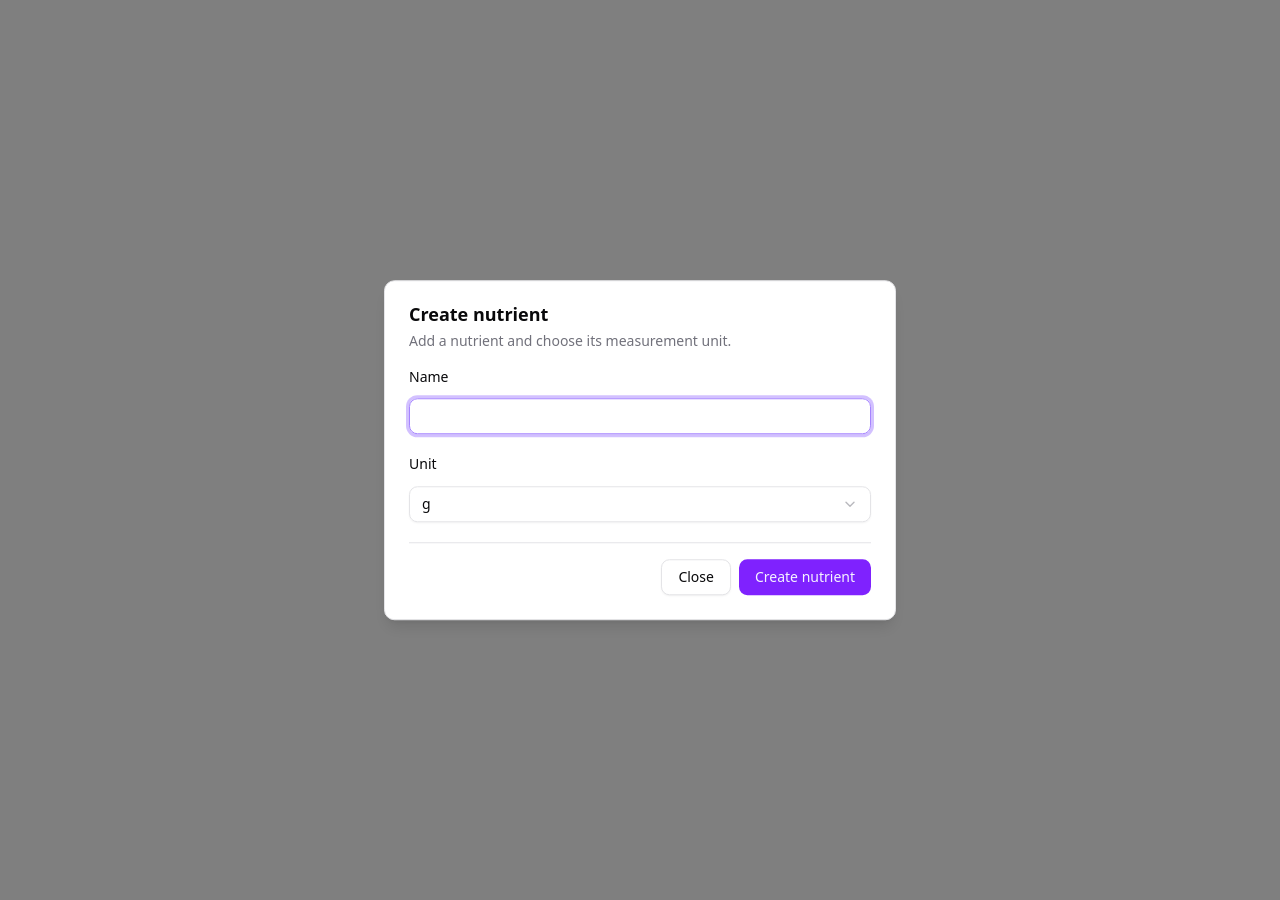
NutrientFormDialog › renders one alert for a non-field request error and permits retry
This screenshot has width=1280, height=900.
Type "Iron" into the field labelled "Name" at [640, 416], box [409, 398, 871, 434]
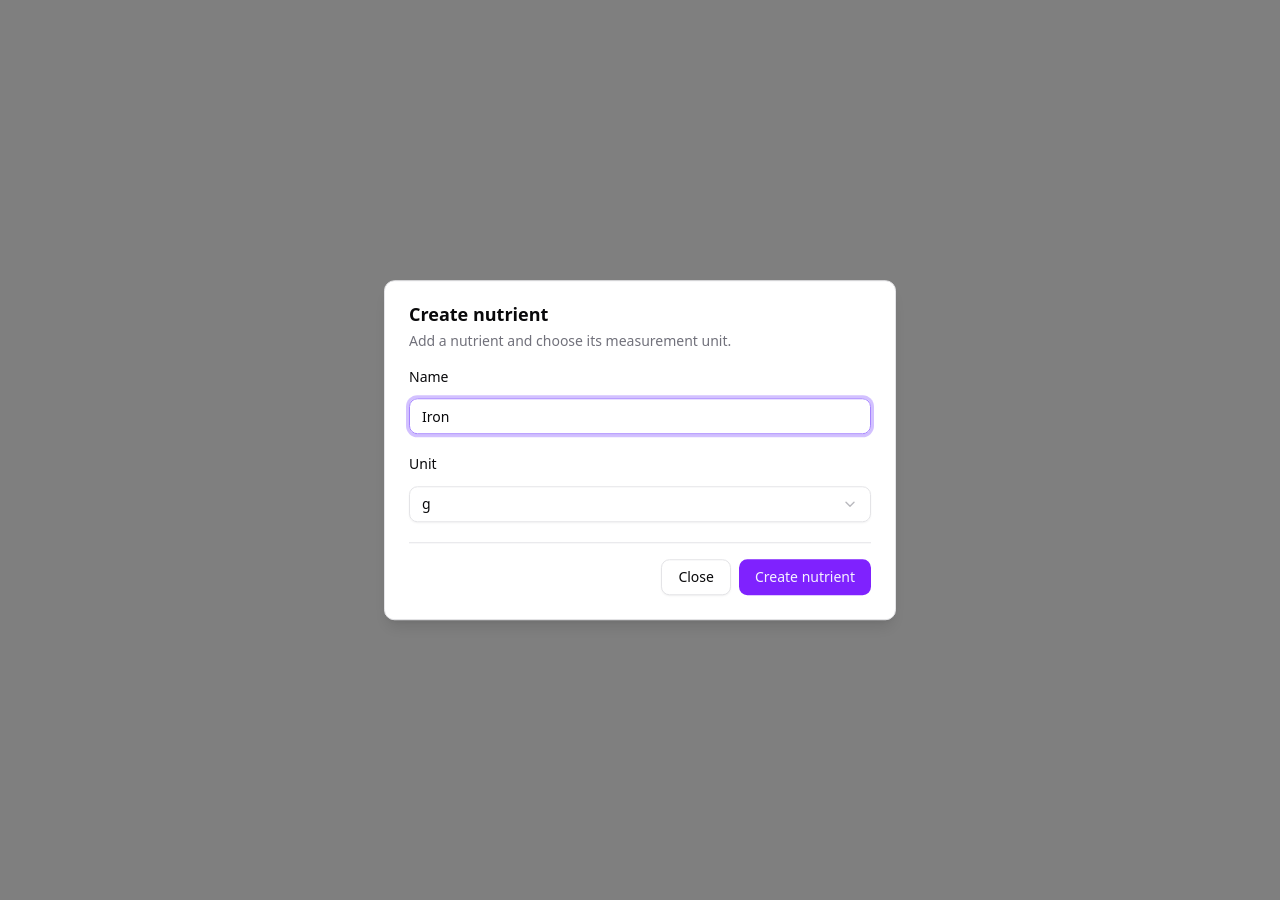
Click the button "Create nutrient" at [805, 577], box [739, 559, 871, 595]
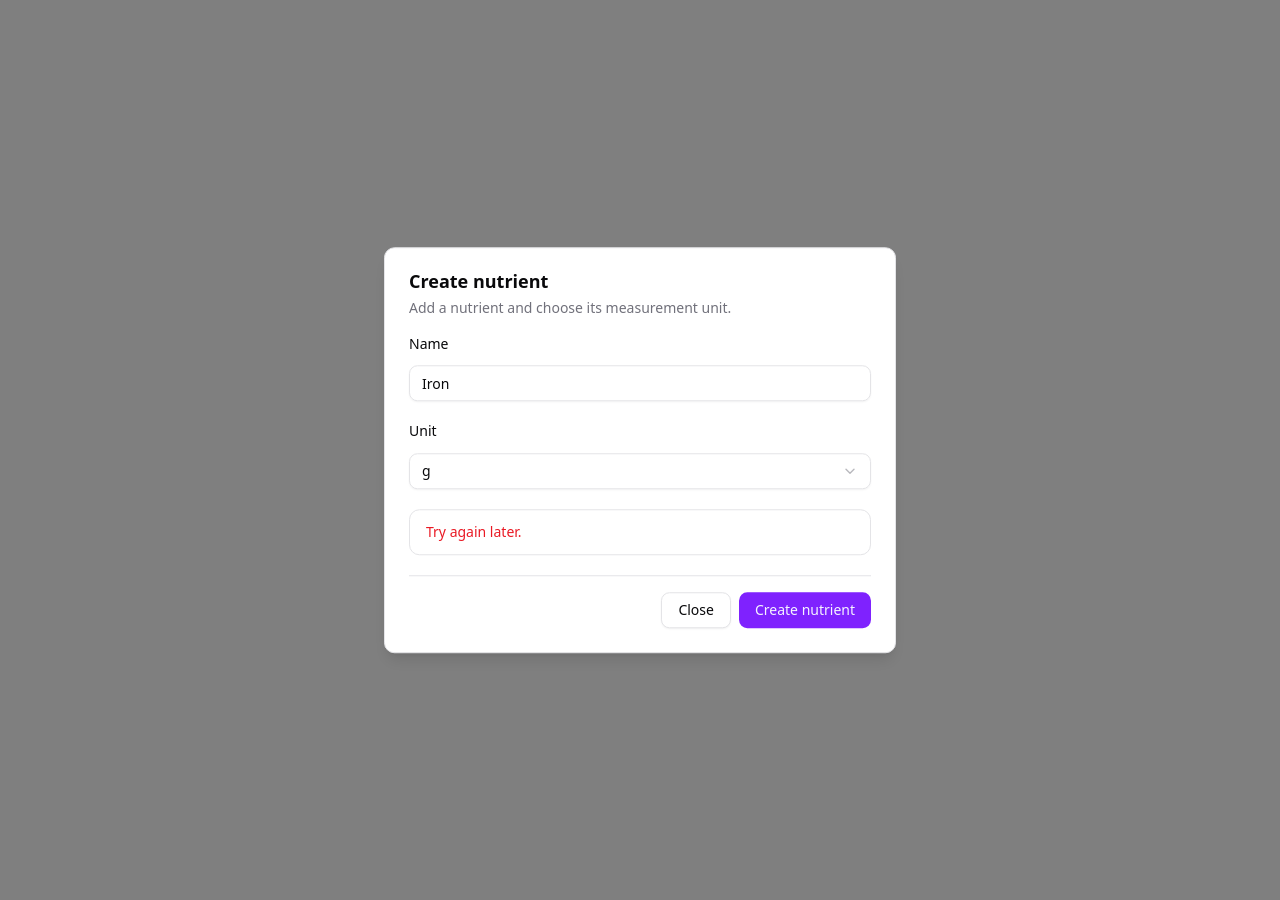
Expected: the button "Create nutrient" is enabled, [739, 592, 871, 628]
Now the message reads "Try again later.", box [426, 522, 522, 541]
Now the number of messages is 1, box [409, 509, 871, 555]
